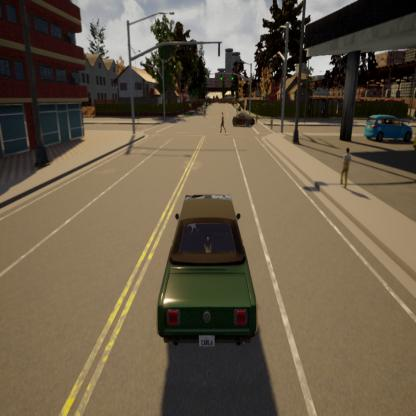Cars: (158, 192, 258, 352), (366, 115, 412, 141), (232, 114, 254, 130)
Pedestrian: (339, 145, 350, 188), (219, 112, 228, 136), (202, 102, 208, 116)
